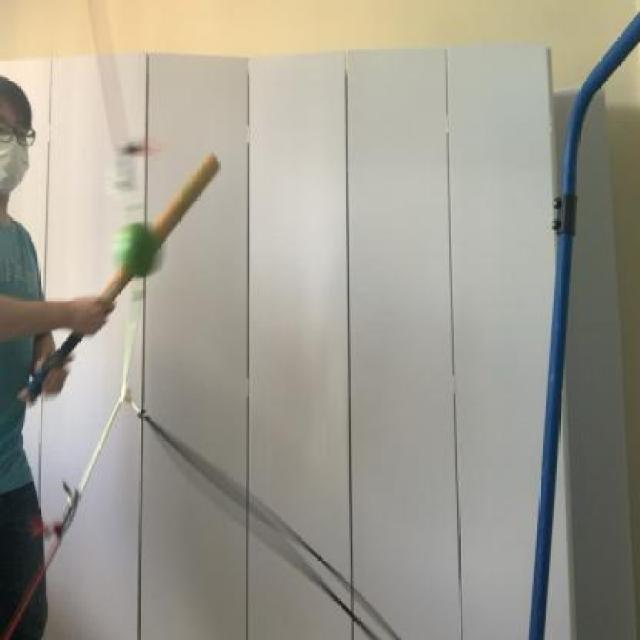baseball: (116, 213, 161, 282)
